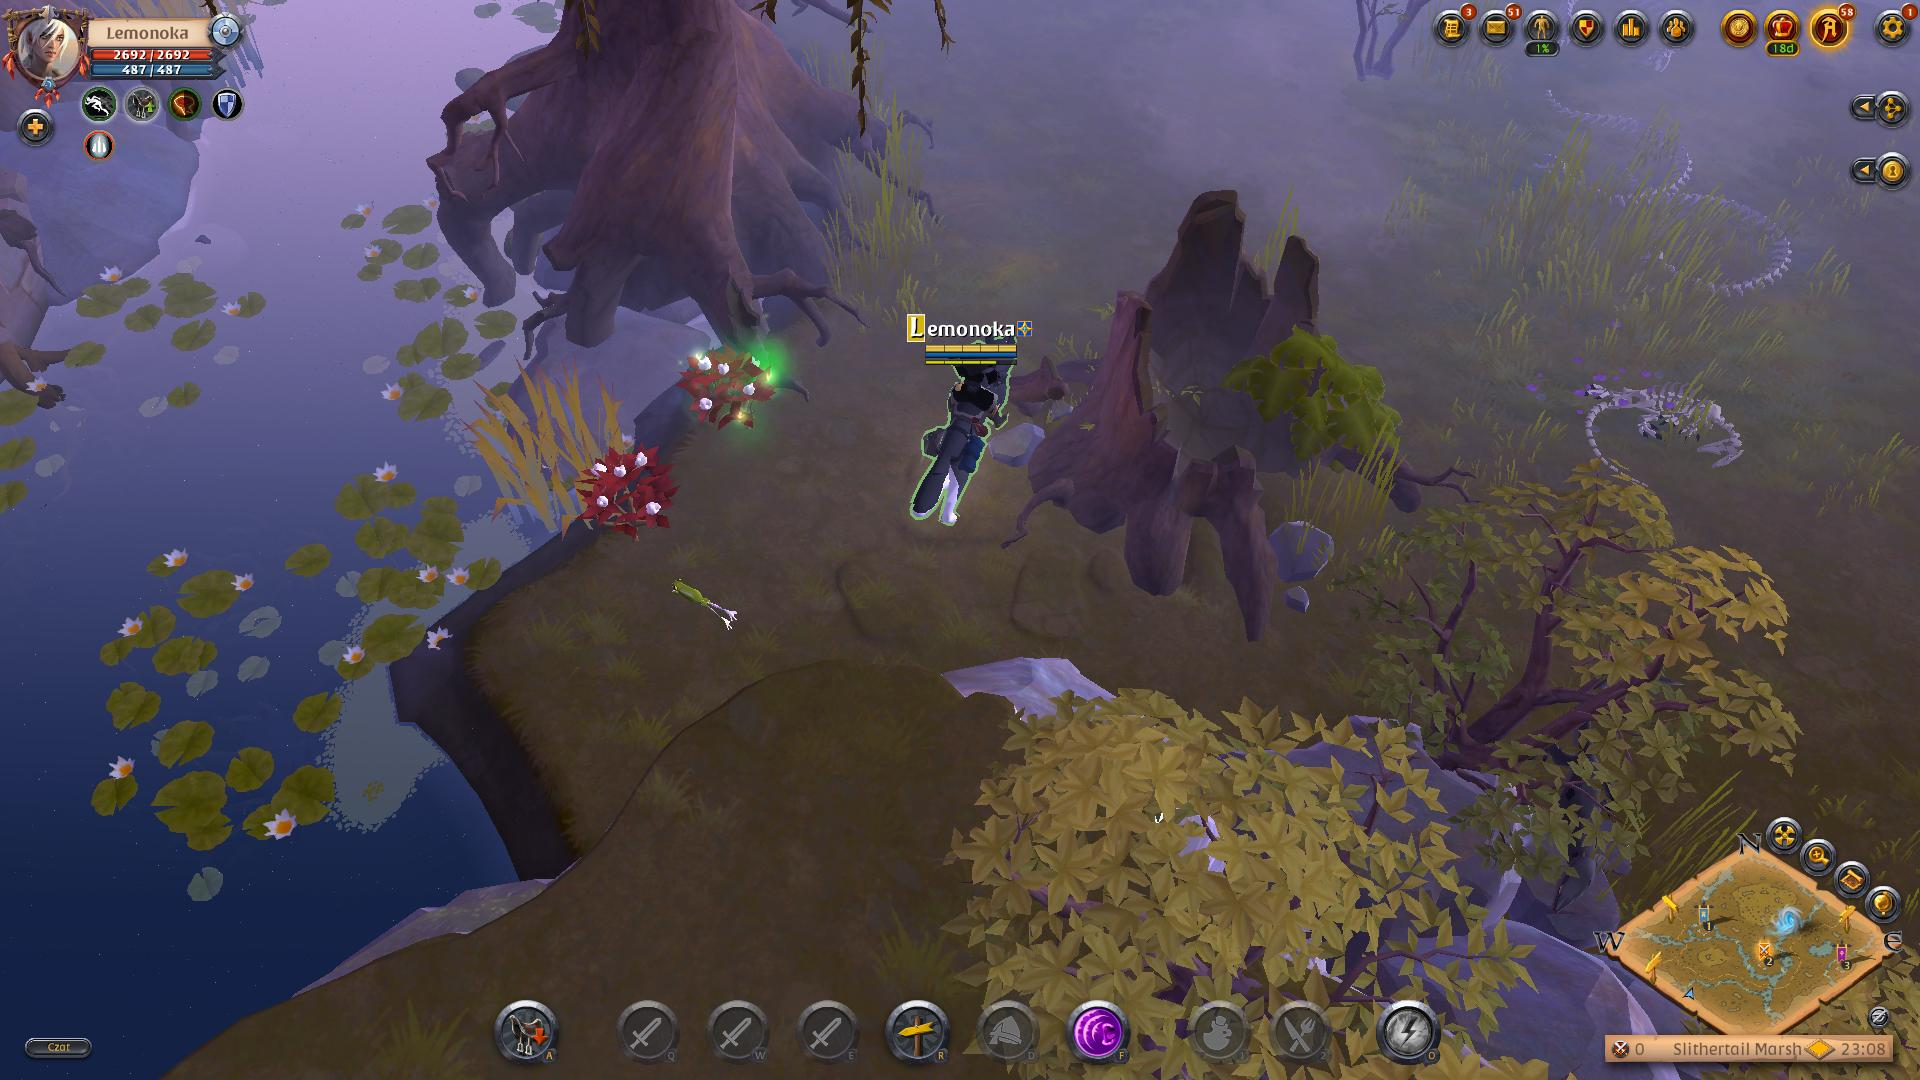fiber tier 5: (564, 435, 680, 543), (669, 342, 781, 447)
